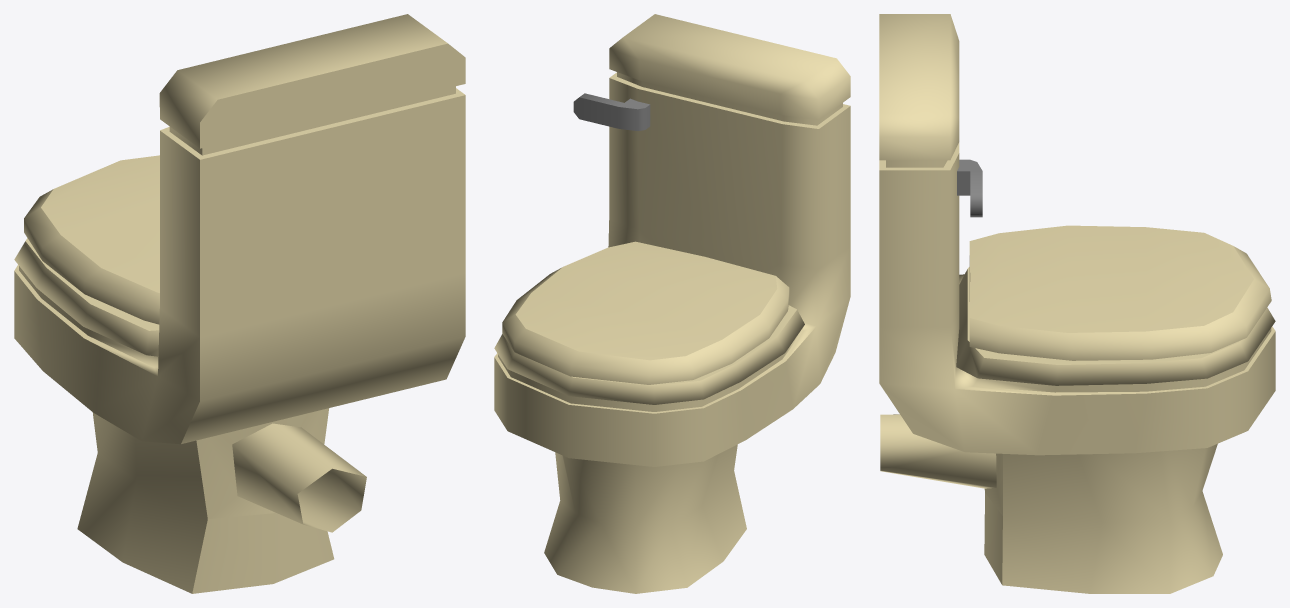
3 renders of one model, left to right at view 1: azimuth 30°, elevation 25°; view 2: azimuth 150°, elevation 25°; view 3: azimuth 270°, elevation 25°, orthographic. The views are drawn at different scales.
Parts seen in each view (by area): view 1: SM_WC_01, SM_WC_Cuvette; view 2: SM_WC_01, SM_WC_Cuvette; view 3: SM_WC_01, SM_WC_Cuvette.
Part boxes in pixels (<box>): SM_WC_01: <box>14,14,465,593</box>; SM_WC_Cuvette: <box>24,155,159,324</box>; SM_WC_01: <box>494,14,850,593</box>; SM_WC_Cuvette: <box>502,241,789,384</box>; SM_WC_01: <box>879,14,1275,593</box>; SM_WC_Cuvette: <box>969,225,1271,360</box>.
Size of the model in its own units: 0.5765 by 0.7246 by 0.9906.
